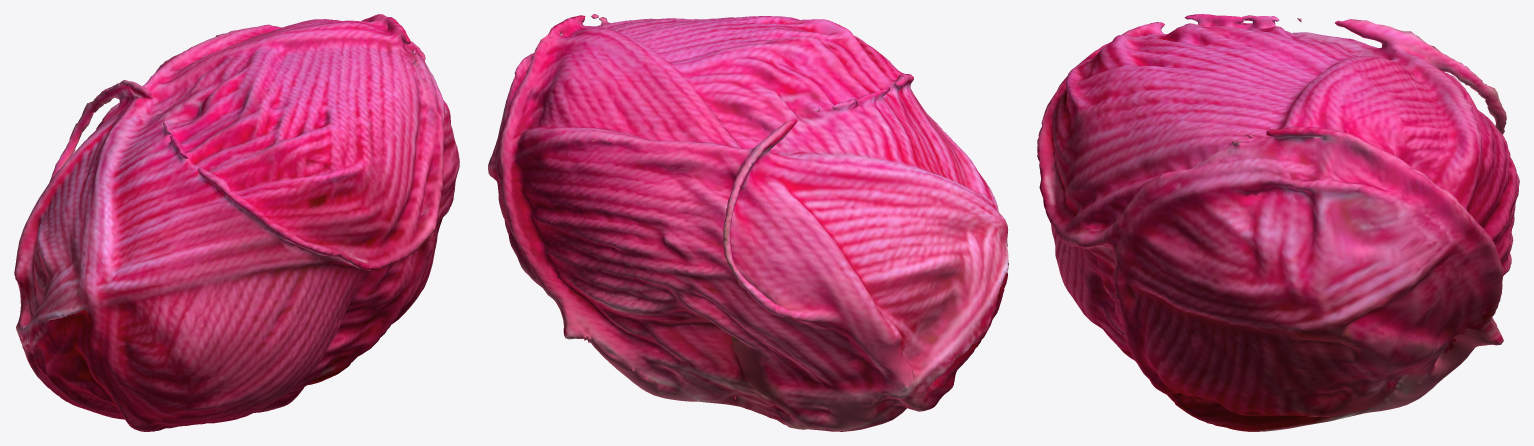
3 renders of one model, left to right at view 1: azimuth 30°, elevation 25°; view 2: azimuth 150°, elevation 25°; view 3: azimuth 270°, elevation 25°, orthographic. The views are drawn at different scales.
Visible parts, largest first — view 1: Object_3, Object_4; view 2: Object_3, Object_4, Object_2; view 3: Object_3, Object_4, Object_2.
Part boxes in pixels (<box>): Object_3: <box>14,14,459,431</box>; Object_4: <box>16,21,448,430</box>; Object_3: <box>488,14,1008,431</box>; Object_4: <box>490,14,939,413</box>; Object_2: <box>577,316,914,430</box>; Object_3: <box>1037,14,1519,431</box>; Object_4: <box>1043,15,1500,404</box>; Object_2: <box>1320,329,1496,417</box>.
Size of the model in its own units: 2.13 by 1.56 by 1.71.
3 materials, 3 textured.
